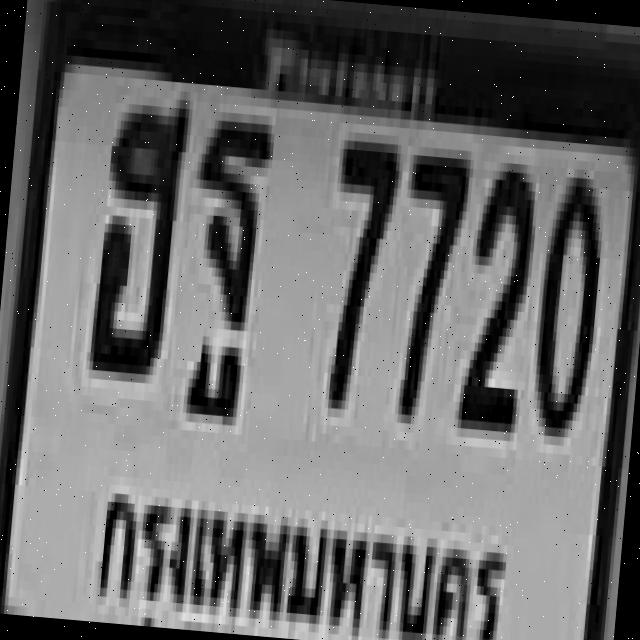0: (528, 167, 604, 430)
2: (455, 156, 534, 419)
25ThorThan: (178, 110, 272, 383)
53HorNokHook: (85, 89, 186, 380)
7: (318, 131, 398, 403), (388, 146, 468, 418)
Bangkok: (81, 466, 516, 640)
